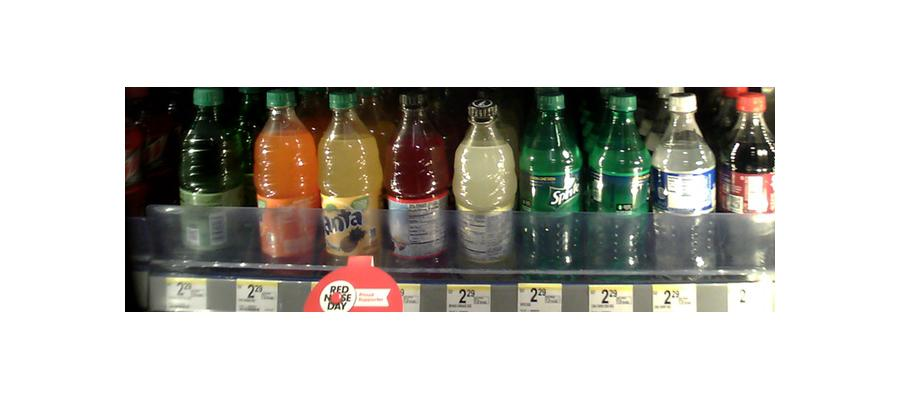bottle: (176, 84, 244, 268), (586, 91, 652, 276), (254, 87, 318, 271), (654, 91, 716, 276), (318, 92, 382, 268), (386, 91, 448, 269), (523, 91, 582, 271), (456, 98, 516, 272), (723, 90, 776, 275)
